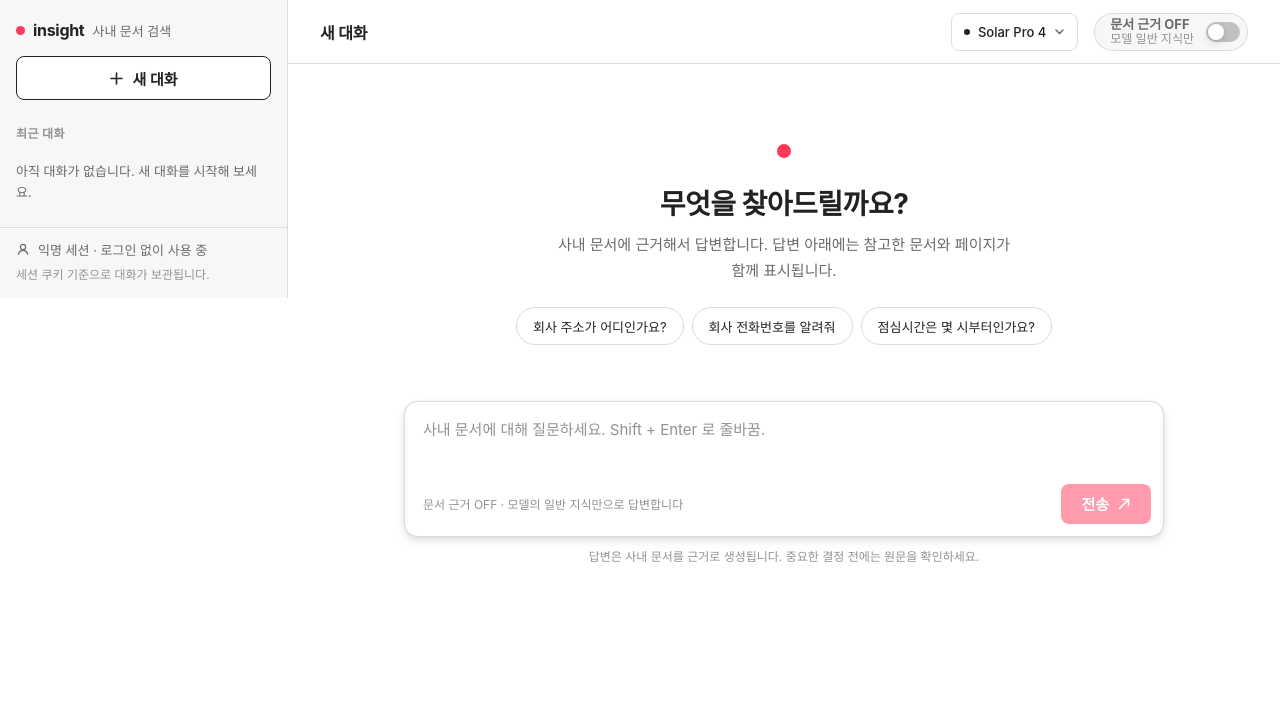
Scenario: DOM anchor contract (design-system:AC-16, AC-17) › [design-system:AC-16] a live-streamed turn exposes message-assistant-*/message-user-* testid prefixes
The image size is (1280, 720).
Type "hello" into the text box at (784, 439), box [405,402,1163,476]
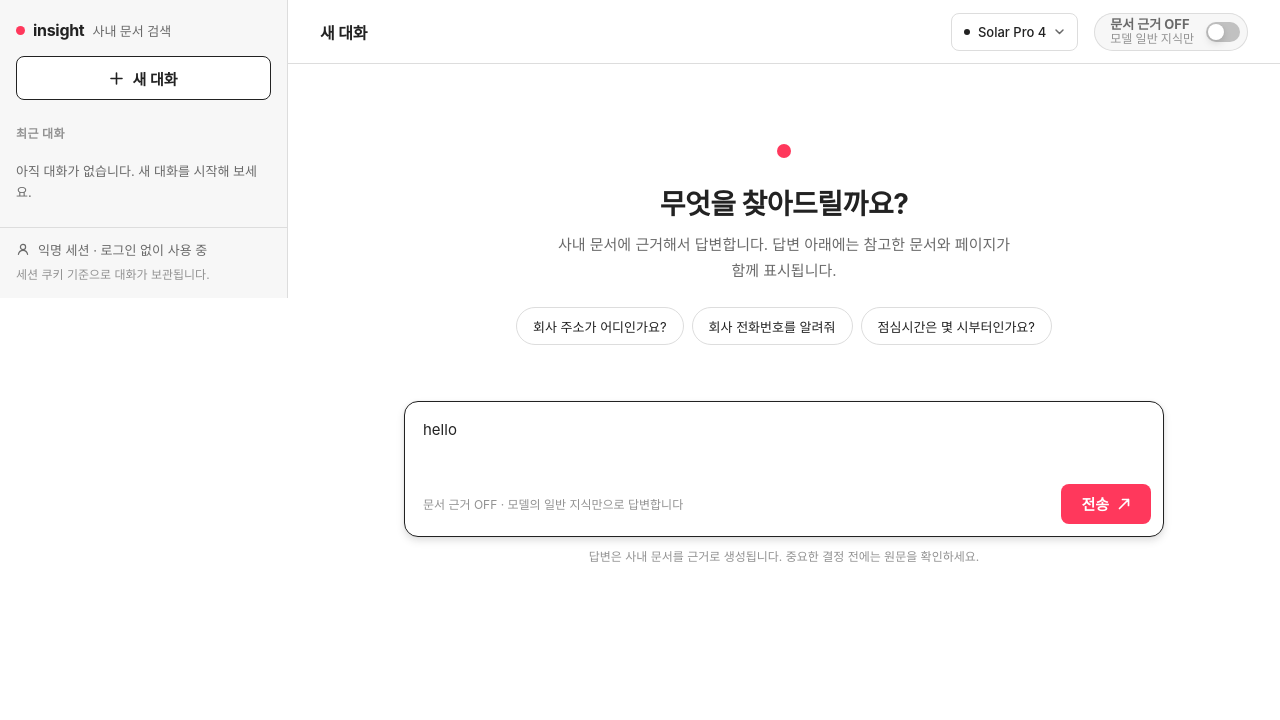
Click the button "전송" at (1106, 504), box [1061,484,1151,524]
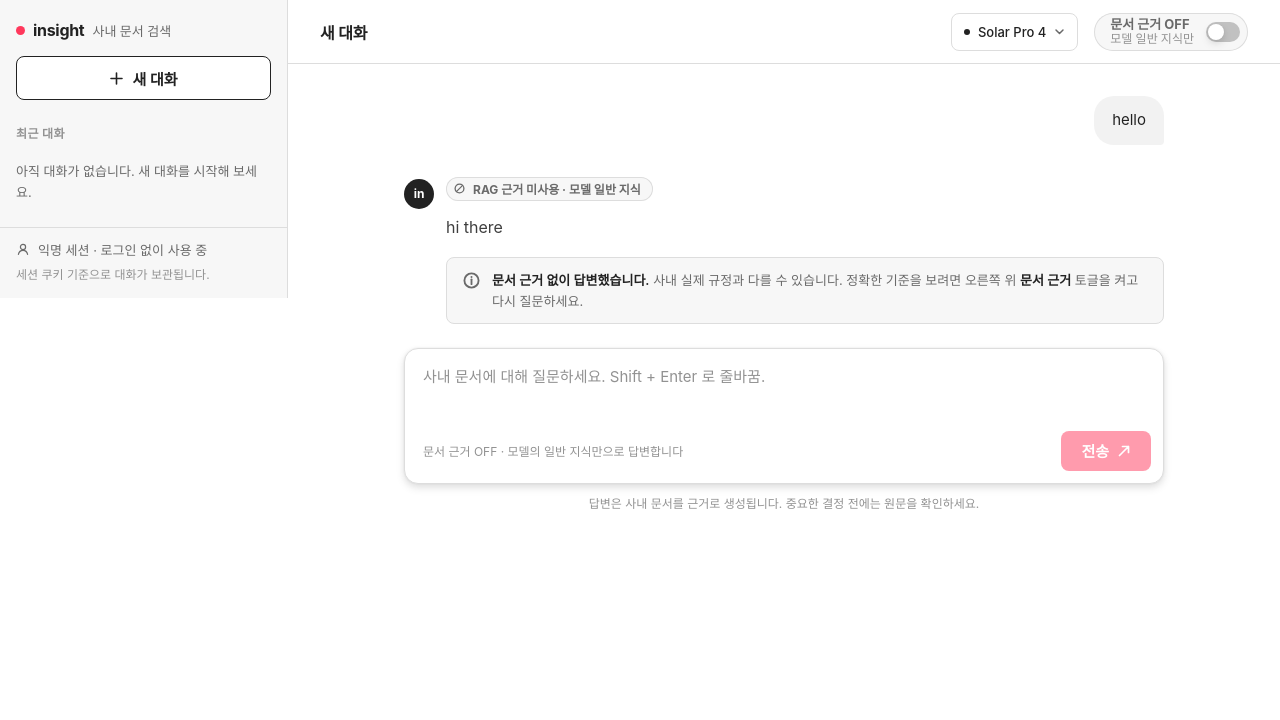
Now the message "hi there" is shown, box [446,217,503,237]
Now the text "hello" is shown, box [1094,96,1164,145]
